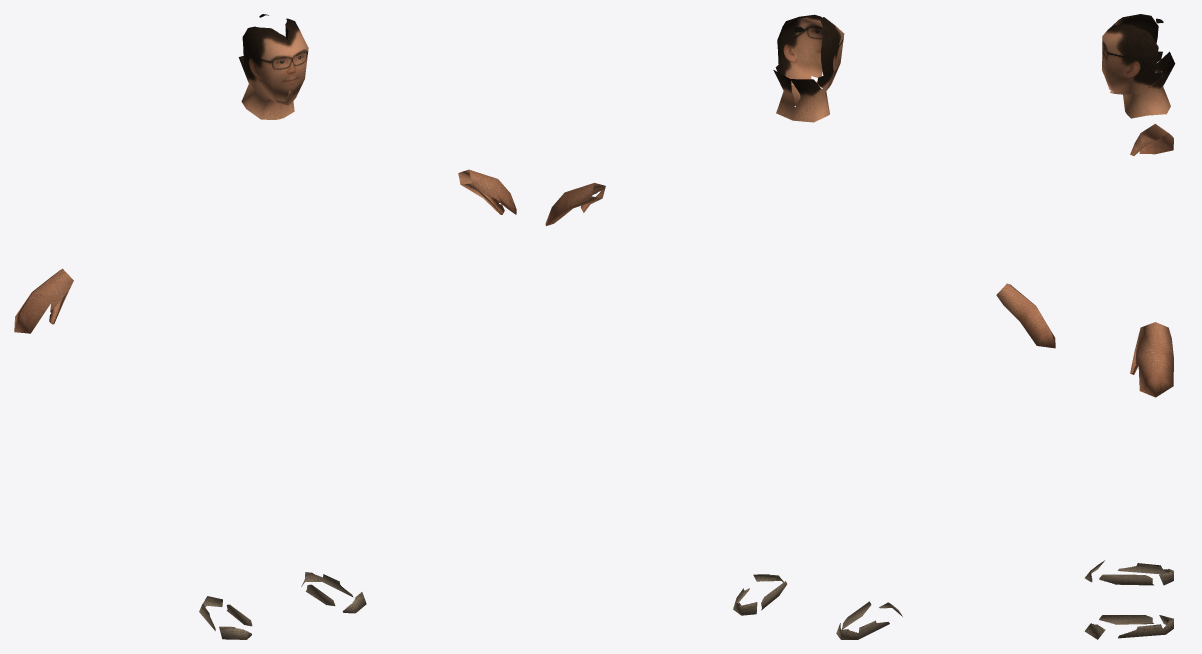
The model's file is Mergen.fbx.
The picture shows the model from 3 angles, left to right: view 1: azimuth 30°, elevation 25°; view 2: azimuth 150°, elevation 25°; view 3: azimuth 270°, elevation 25°; orthographic projection.
Parts seen in each view (by area): view 1: HumanoidBase_Overlapping; view 2: HumanoidBase_Overlapping; view 3: HumanoidBase_Overlapping.
Part boxes in pixels (x1,y1,x2,y2): HumanoidBase_Overlapping: (14,14,516,639); HumanoidBase_Overlapping: (545,14,1055,639); HumanoidBase_Overlapping: (1084,14,1175,639).
Bounding box in the file's own units: 161 × 180 × 28.62.
Materials: 1 (1 with a texture image).
